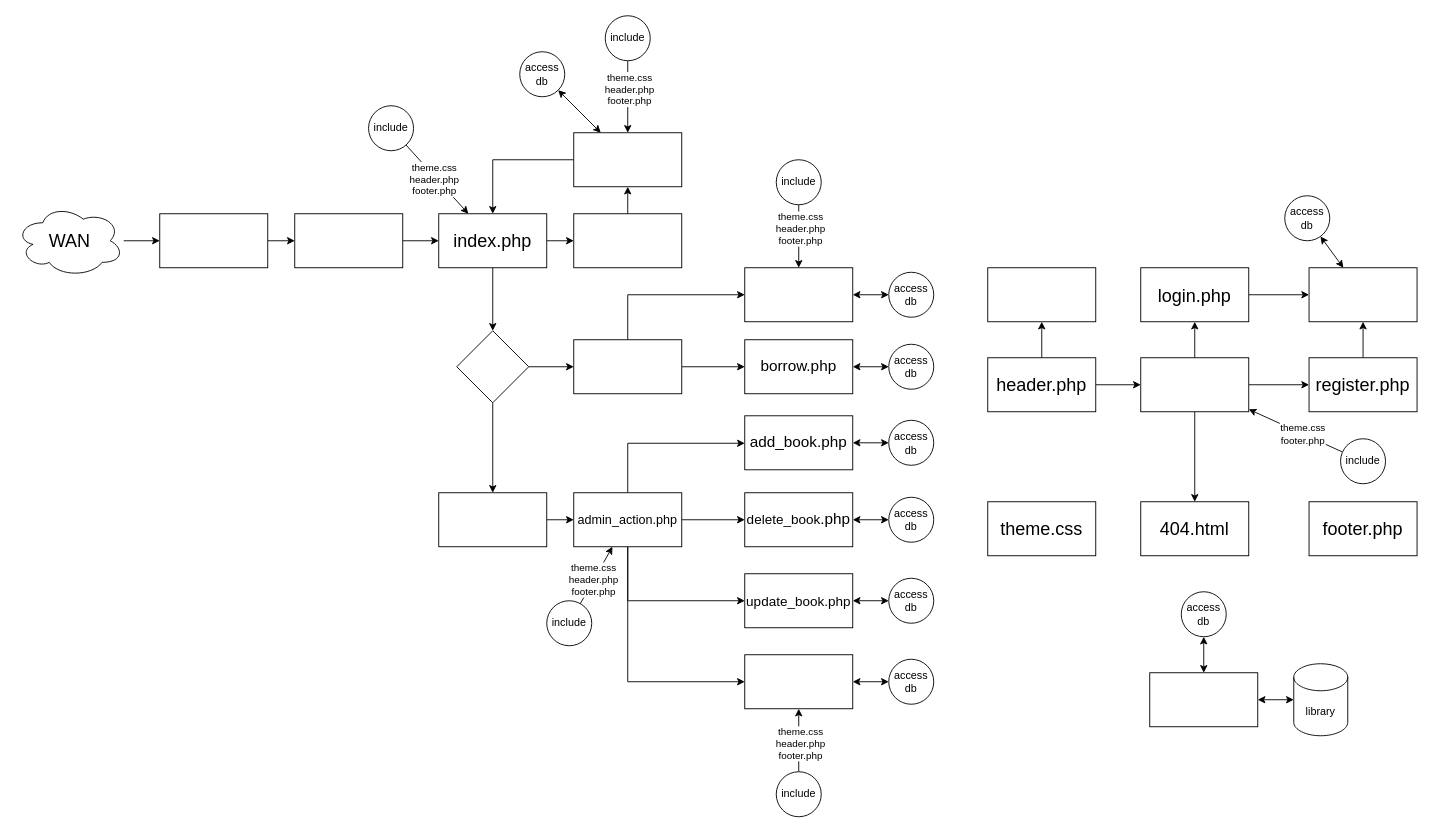
Some shapes in this 1433 by 833 pixel diagram are drawn without their labels. The shapes that lost their labels are listed below. From the top down, each one's box as (x1, y1, x2, y2) in pixels, then its label:
(573, 132, 682, 187): book_query.php
(159, 213, 268, 268): Ngrok NAT
(294, 213, 403, 268): Apache Server
(573, 213, 682, 268): book_search.php
(744, 267, 853, 322): return.php
(987, 267, 1096, 322): signOut.php
(1308, 267, 1417, 322): dashboard.php
(456, 330, 529, 403): role
(573, 339, 682, 394): user.php
(1140, 357, 1249, 412): auth.php
(438, 492, 547, 547): admin.php
(744, 654, 853, 709): borrowlog.php
(1149, 672, 1258, 727): db.php
